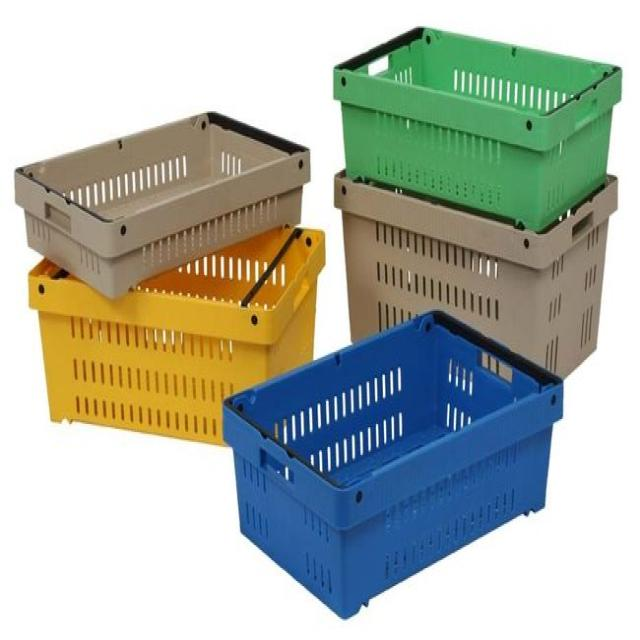basket: (182, 252, 613, 640), (0, 62, 333, 321), (24, 224, 344, 463), (311, 9, 630, 240), (332, 170, 620, 377)
